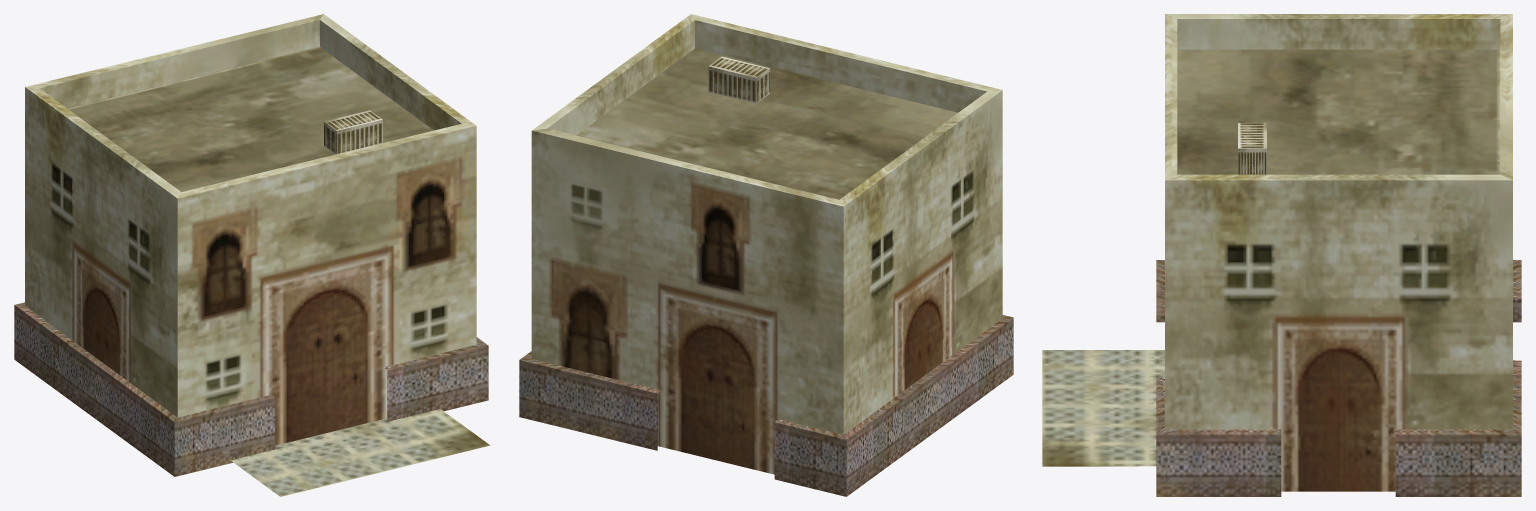
The model's file is Civilian - Residential Building - Mogadishu House 10 - Night - CBTHouse10_N.glb.
3 renders of one model, left to right at view 1: azimuth 30°, elevation 25°; view 2: azimuth 150°, elevation 25°; view 3: azimuth 270°, elevation 25°, orthographic. The views are drawn at different scales.
Visible parts, largest first — view 1: CBTHOUSE10_N; view 2: CBTHOUSE10_N; view 3: CBTHOUSE10_N.
Part boxes in pixels (<box>): CBTHOUSE10_N: <box>14,14,490,496</box>; CBTHOUSE10_N: <box>519,14,1013,496</box>; CBTHOUSE10_N: <box>1042,14,1521,496</box>.
Bounding box in the file's own units: 47.46 × 39.63 × 55.08.
Materials: 1 (1 with a texture image).
